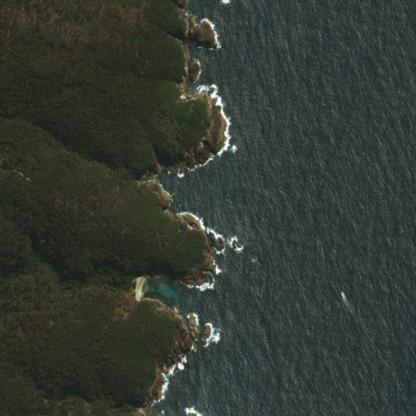ship: (332, 284, 352, 302)
